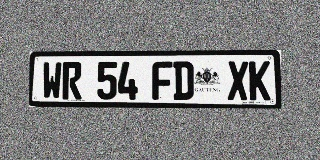4: (118, 62, 138, 100)
5: (97, 62, 117, 100)
D: (173, 61, 194, 100)
F: (152, 61, 172, 100)
K: (249, 61, 270, 100)
R: (62, 62, 82, 99)
W: (42, 62, 62, 99)
X: (227, 61, 248, 100)
